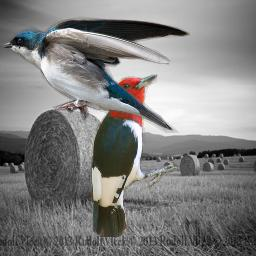Swallow: (1, 16, 190, 133)
Woodpecker: (90, 74, 178, 237)
